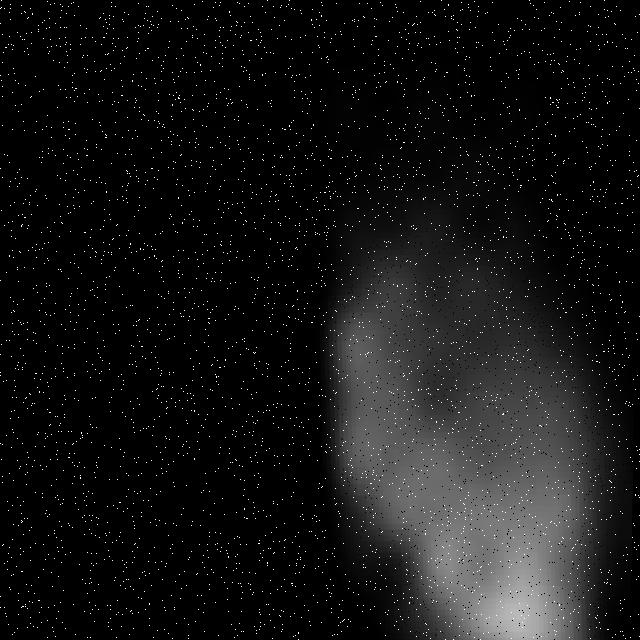person: (307, 111, 640, 640)
